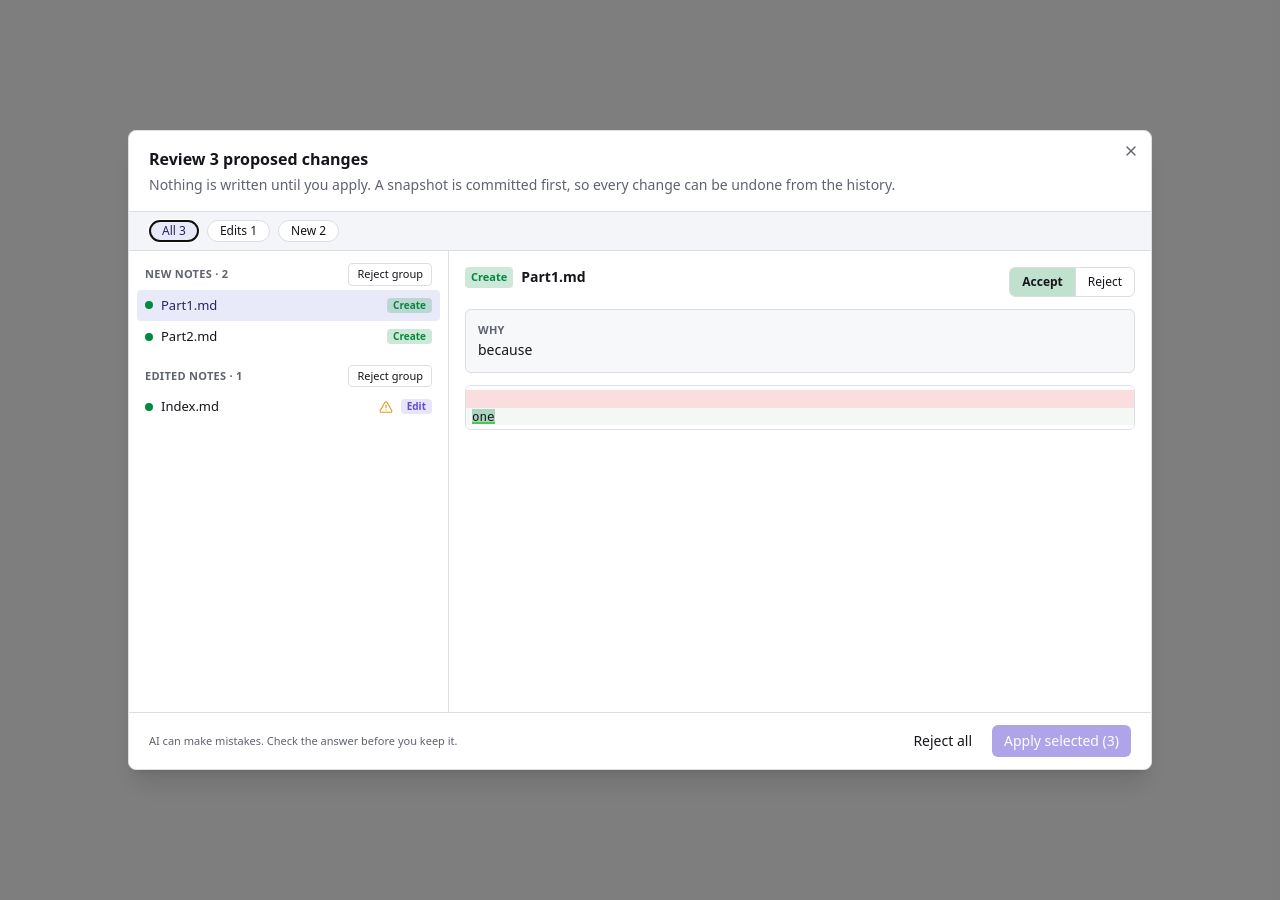
Test: ProposalReview › accepts and rejects a whole group, and filters by kind
This screenshot has width=1280, height=900.
Click the button "Reject group" in the row of "New notes": (390, 274) [348,263,432,286]
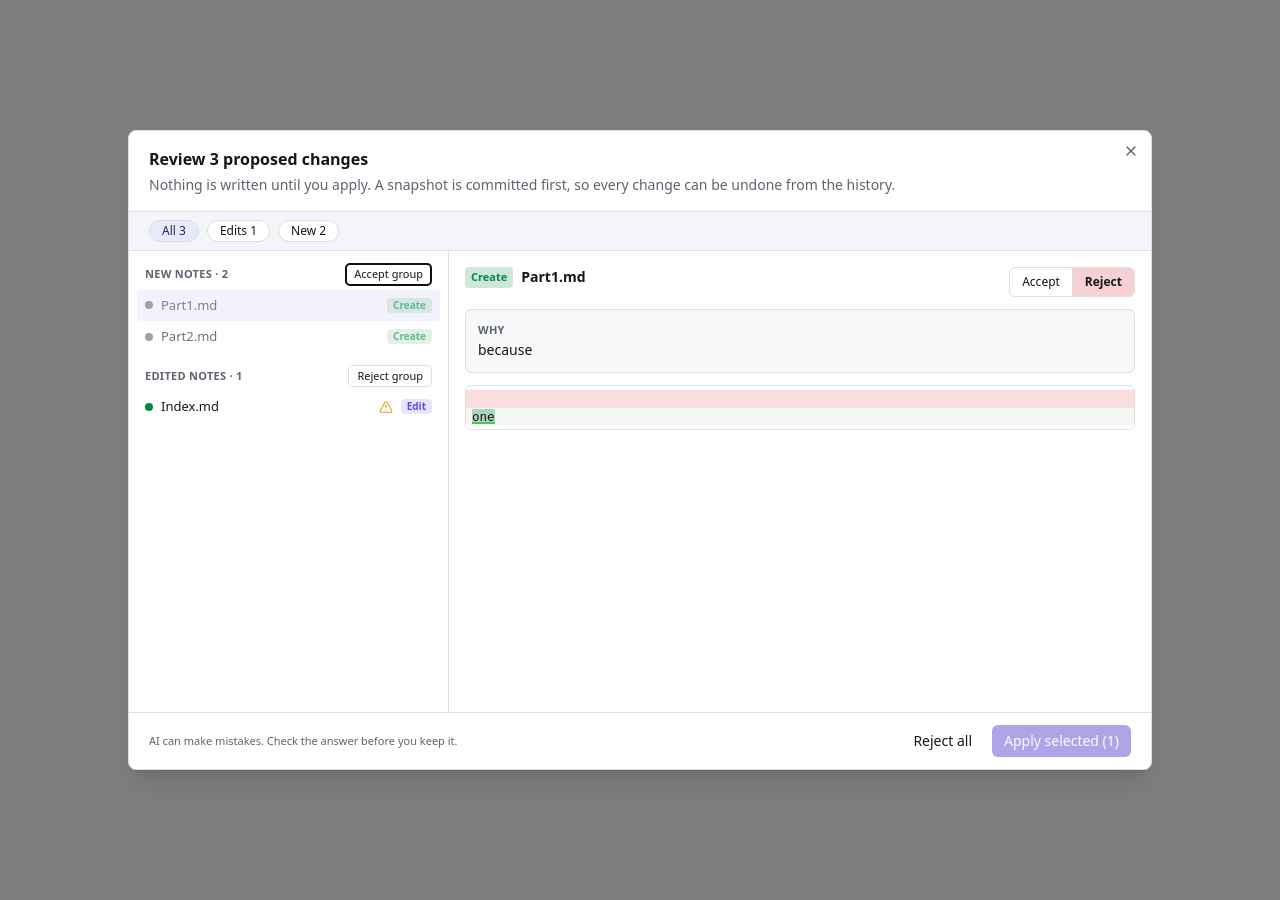
Click the button "Accept group": (389, 274) [345,263,432,286]
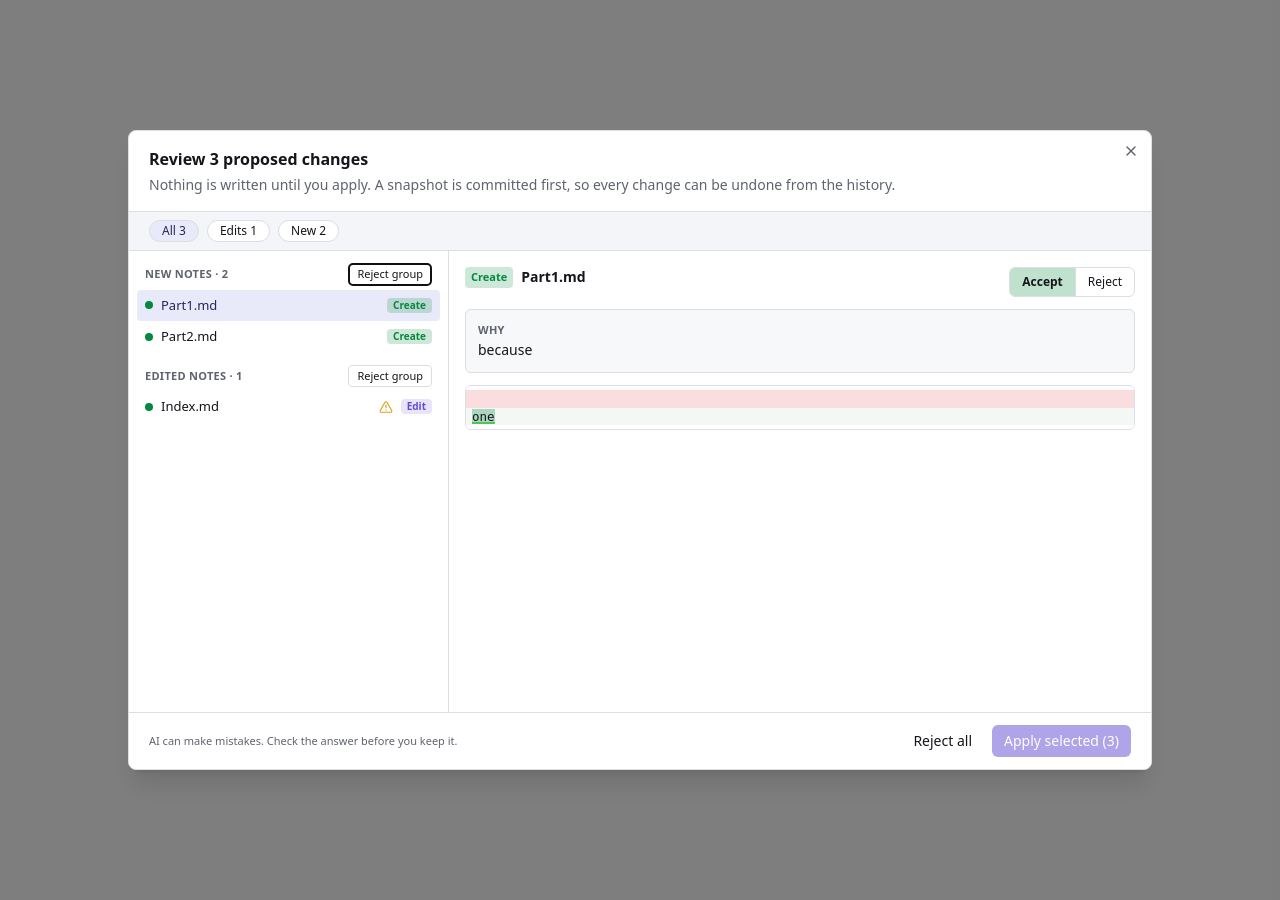
Click the button "Edits 1": (238, 231) [207,220,270,242]
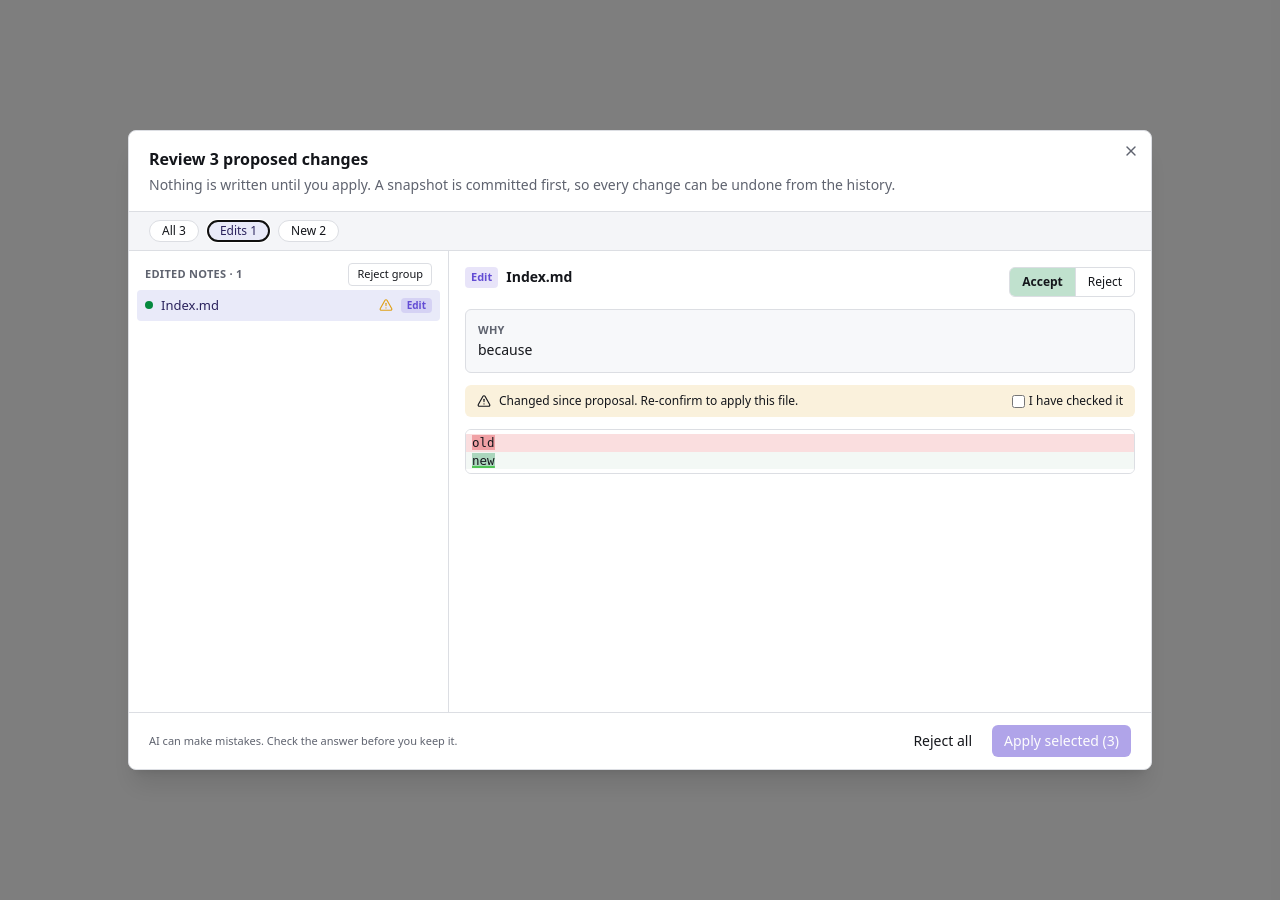
Expected: the element "Edited notes" is shown, [137,259,440,321]
Now the heading "New notes" is gone
